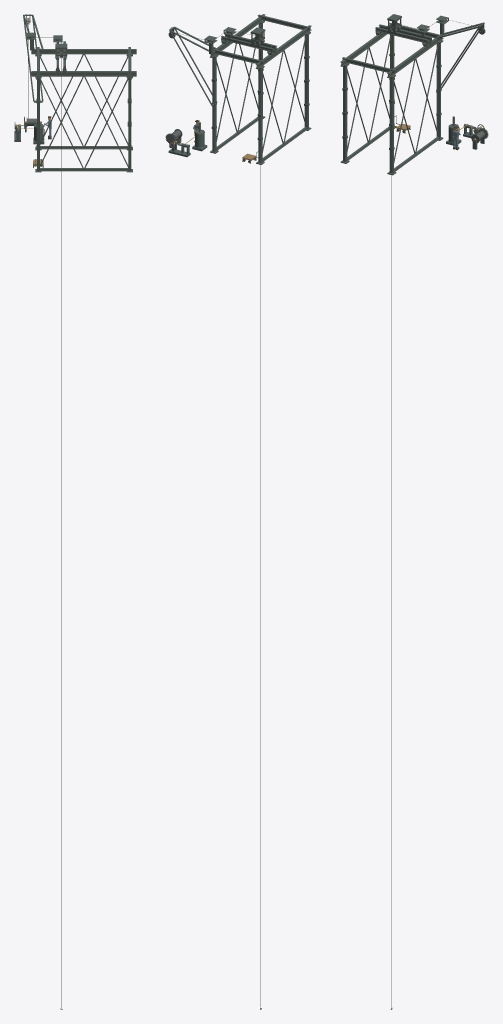
The model's file is upper-197-freight-frame.glb.
3 views of the same model, side by side, from view 1: azimuth 90°, elevation 25°; view 2: azimuth 150°, elevation 25°; view 3: azimuth 330°, elevation 25° (orthographic). The views are drawn at different scales.
Parts seen in each view (by area): view 1: Continuous upper hoist reeving.002, longitudinal runway web.016, longitudinal runway web.017; view 2: Continuous upper hoist reeving.002; view 3: Continuous upper hoist reeving.002.
Boxes of the visible parts, left/top/right/bottom form: Continuous upper hoist reeving.002: left=28, top=18, right=61, bottom=1006; longitudinal runway web.016: left=31, top=72, right=136, bottom=75; longitudinal runway web.017: left=31, top=50, right=136, bottom=53; Continuous upper hoist reeving.002: left=177, top=31, right=260, bottom=1006; Continuous upper hoist reeving.002: left=391, top=19, right=475, bottom=1005.
Bounding box in the file's own units: 8.1 × 83.74 × 9.65.
